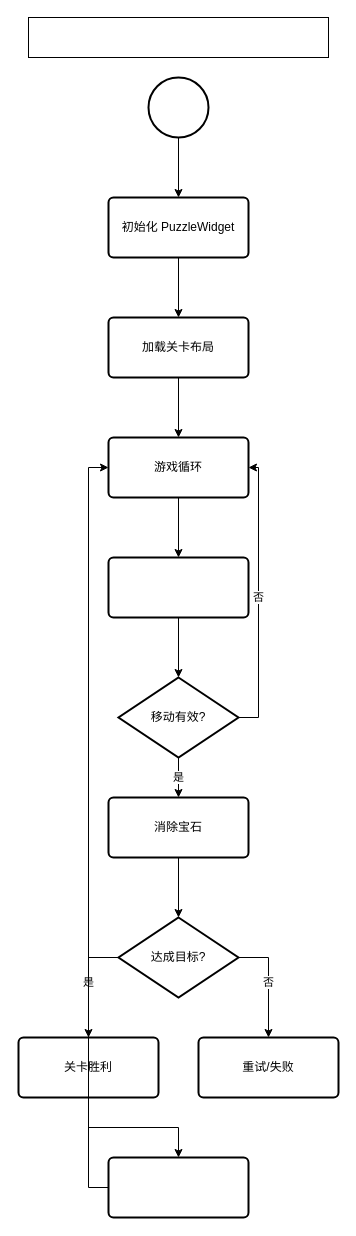
The diagram is 356 pixels wide and 1236 high, and some of its shapes have lost their labels. The shapes that lost their labels are listed below. From the top down, each one's centre as x and y in pixels, then its label:
the point at 178,37: 解密模式游戏模块流程图
the point at 178,107: 开始
the point at 178,587: 拖拽/点击宝石
the point at 178,1187: 下一关
